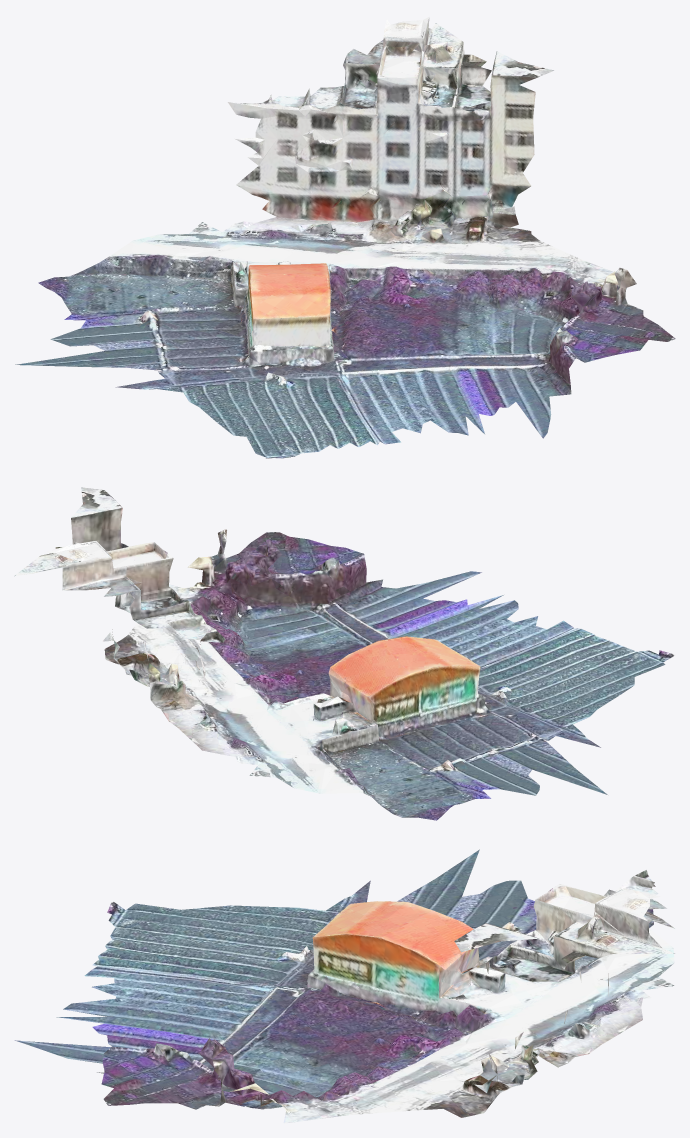
Rendered from Tile_+011_+018_L19_000030.glb.
3 views of the same model, one above another, from view 1: azimuth 30°, elevation 25°; view 2: azimuth 150°, elevation 25°; view 3: azimuth 270°, elevation 25° (orthographic). The views are drawn at different scales.
Parts seen in each view (by area): view 1: rtc; view 2: rtc; view 3: rtc.
Boxes of the visible parts, x1,y1,x2,y2 form: rtc: (15, 17, 675, 458); rtc: (14, 487, 675, 820); rtc: (14, 849, 674, 1123).
Size of the model in its own units: 67.92 by 22.64 by 63.37.
1 material, 1 textured.
